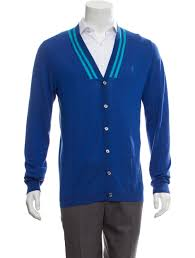C_cardigan sweater: (15, 32, 191, 209)
